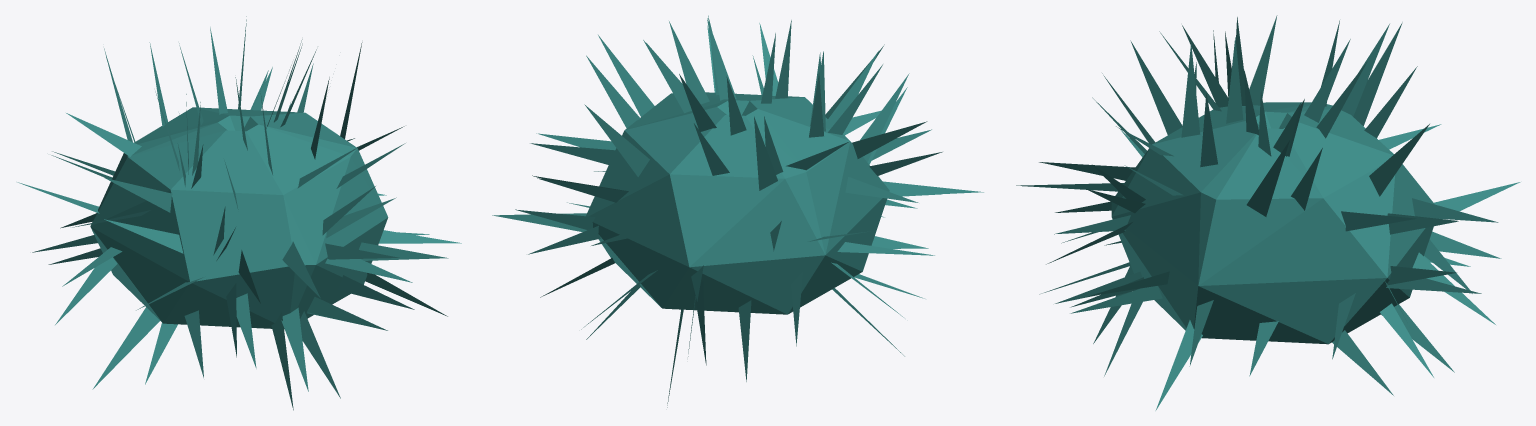
The model's file is SM_Sea_Urchin_Mature_A.fbx.
3 renders of one model, left to right at view 1: azimuth 30°, elevation 25°; view 2: azimuth 150°, elevation 25°; view 3: azimuth 270°, elevation 25°, orthographic. The views are drawn at different scales.
Parts seen in each view (by area): view 1: sea-urchin-mature-a; view 2: sea-urchin-mature-a; view 3: sea-urchin-mature-a.
Boxes of the visible parts, x1=… form: sea-urchin-mature-a: x1=17, y1=16, x2=461, y2=410; sea-urchin-mature-a: x1=492, y1=15, x2=983, y2=407; sea-urchin-mature-a: x1=1016, y1=15, x2=1520, y2=410.
Size of the model in its own units: 0.1668 by 0.1316 by 0.181.
